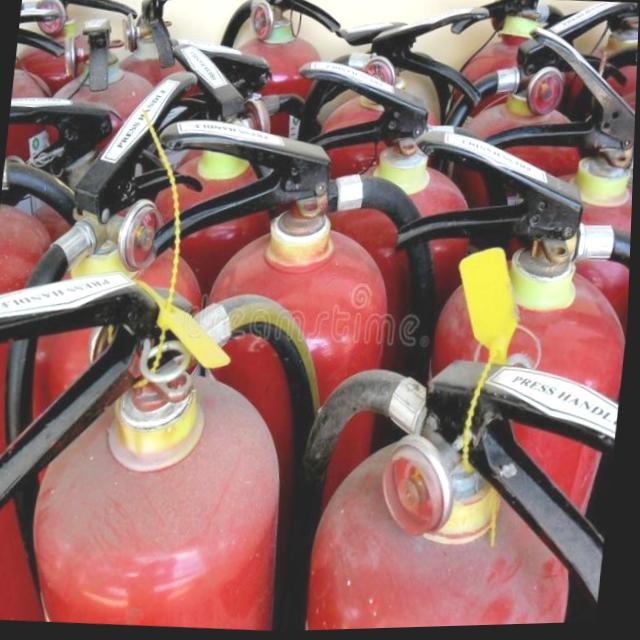FireExtinguisher: (102, 102, 445, 637), (234, 48, 510, 634), (273, 222, 633, 633), (353, 118, 636, 631), (0, 248, 338, 640), (426, 12, 639, 630), (0, 58, 215, 630)
